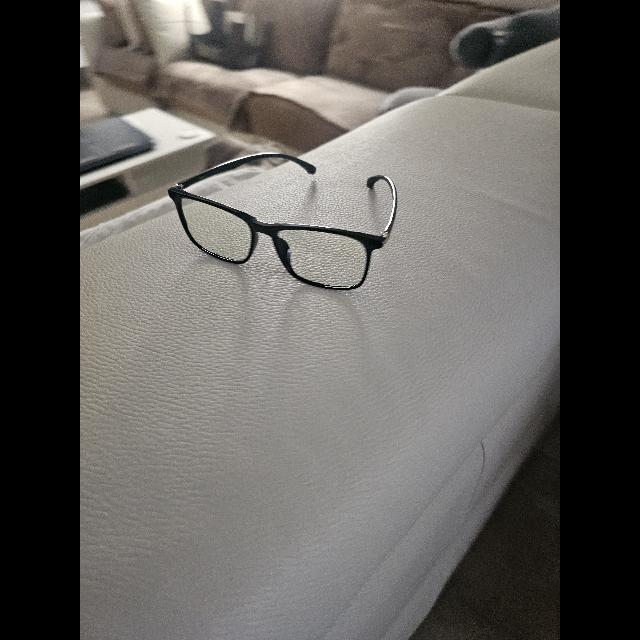glasses: (168, 153, 398, 290)
